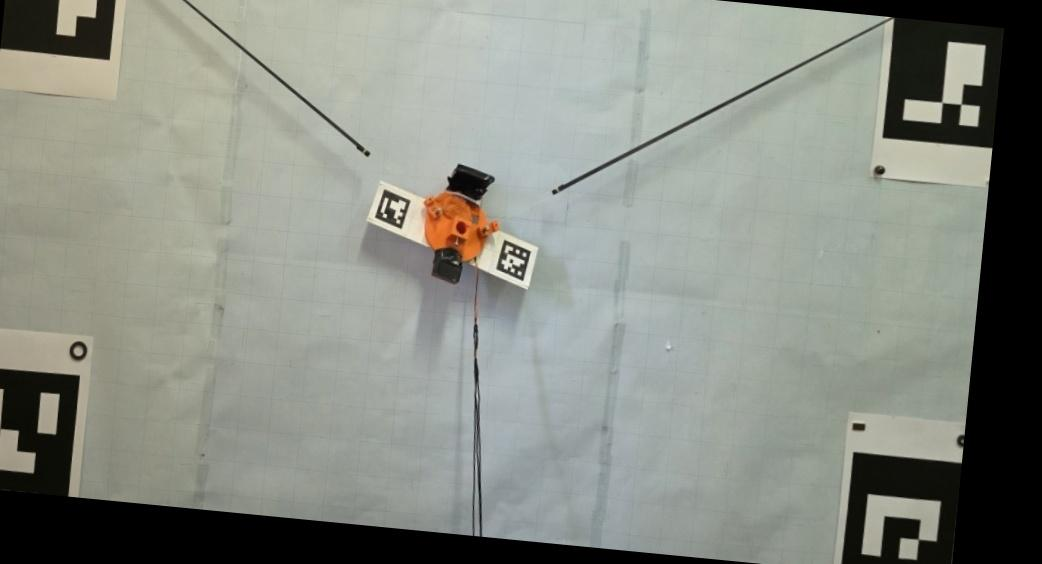robot: (423, 163, 501, 285)
